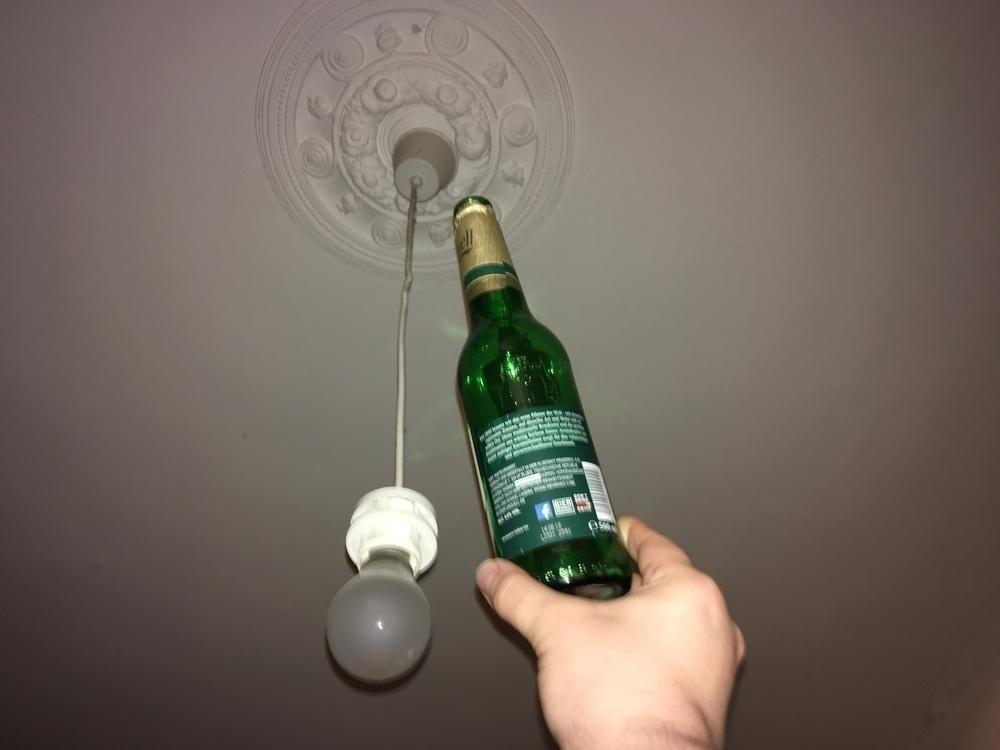bottle-glass: (449, 196, 638, 617)
